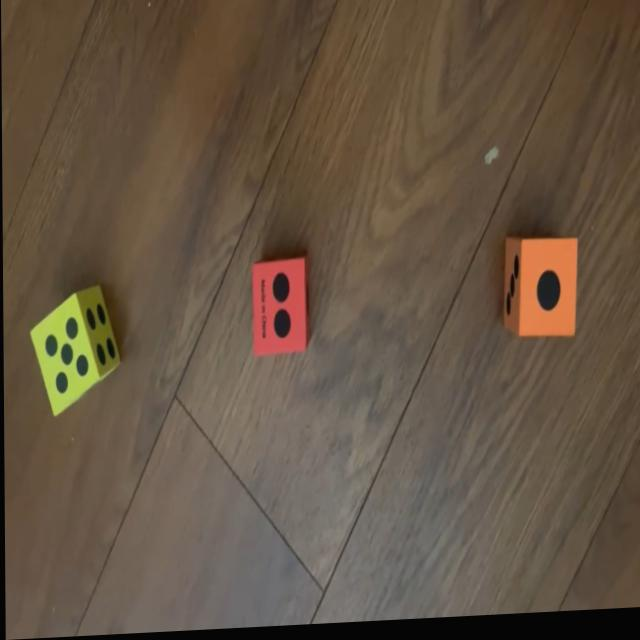red_block: (251, 260, 309, 358)
